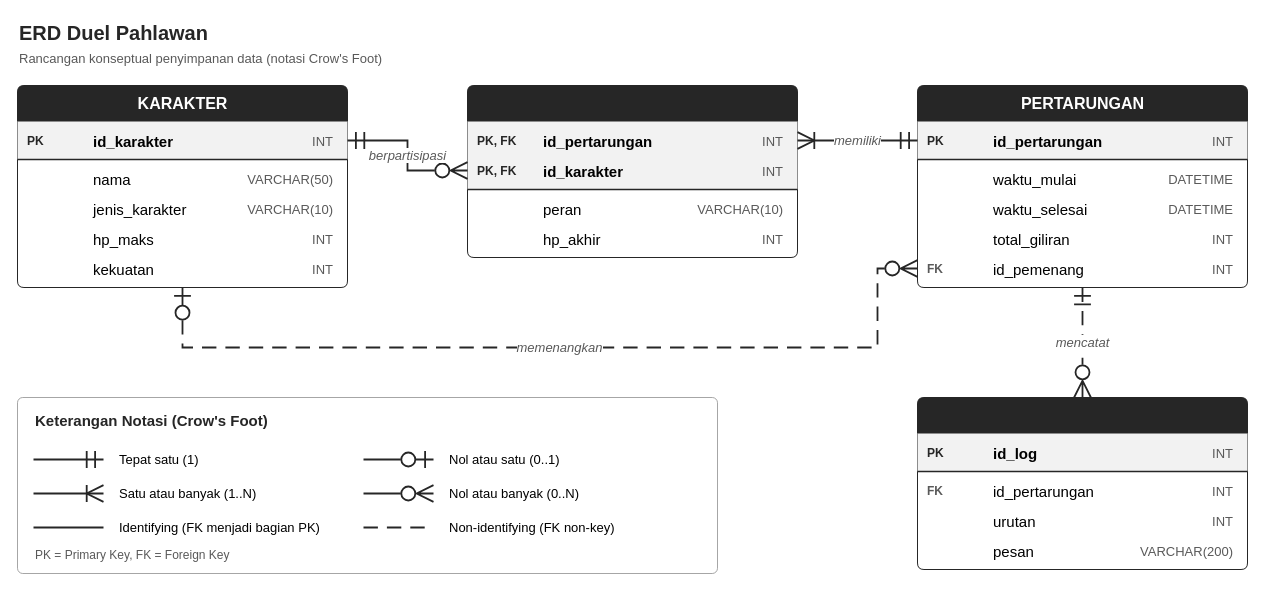
This 1266x591 diagram has some shape labels left out. Each missing label, with the box of its shape:
LOG_PERTARUNGAN: (916, 396, 1248, 570)
PESERTA_PERTARUNGAN: (466, 84, 798, 258)
